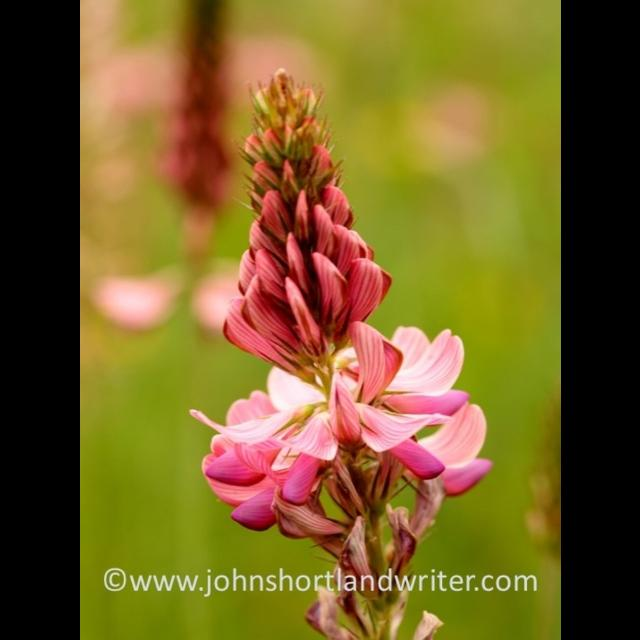Flower: (192, 68, 493, 640)
